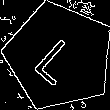L_NE: (30, 27, 88, 86)
